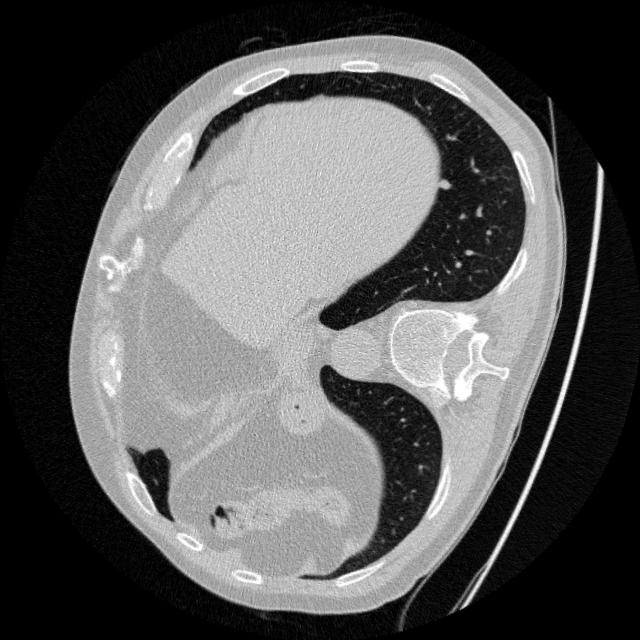nodule: (428, 166, 458, 196)
